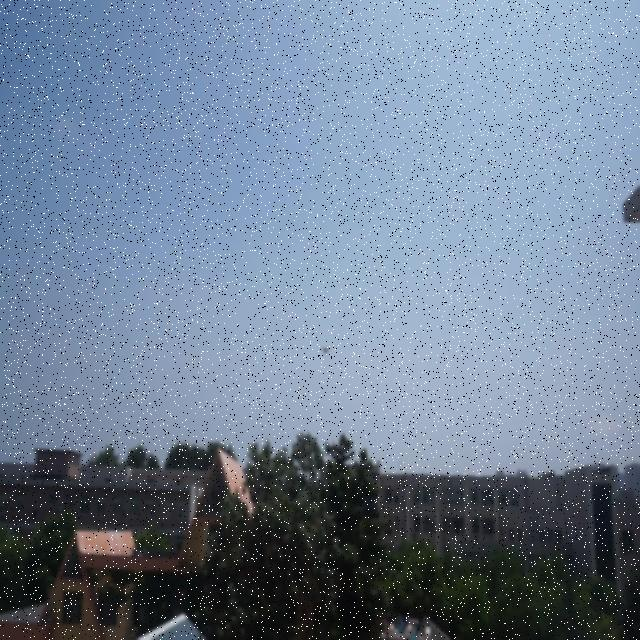UAV: (321, 346, 331, 356)
